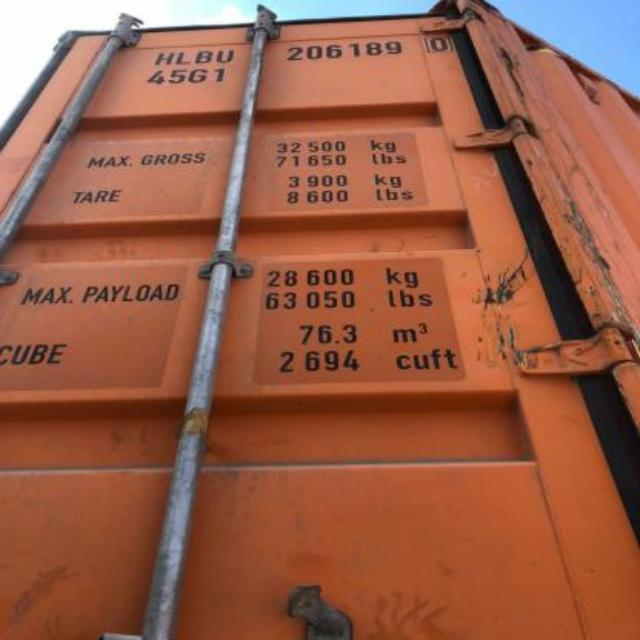0: (422, 34, 454, 56), (305, 40, 325, 62)
1: (346, 38, 362, 62)
2: (285, 42, 301, 62)
6: (325, 41, 345, 64)
8: (365, 36, 381, 60)
9: (383, 34, 403, 62)
B: (194, 46, 212, 66)
H: (154, 49, 174, 67)
L: (173, 46, 191, 66)
U: (213, 44, 234, 66)
